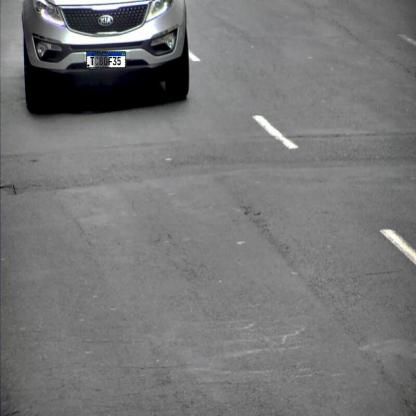PlacaM: (86, 51, 126, 68)
